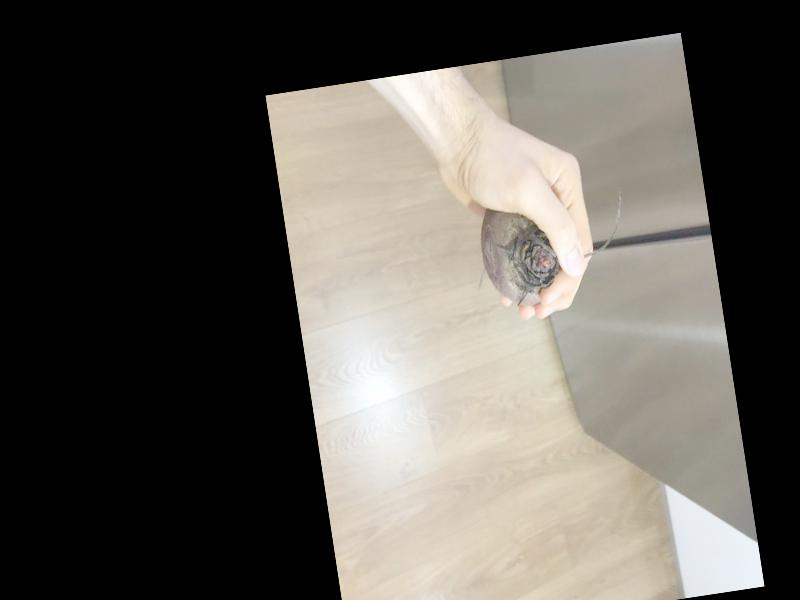Beet: (475, 188, 636, 312)
